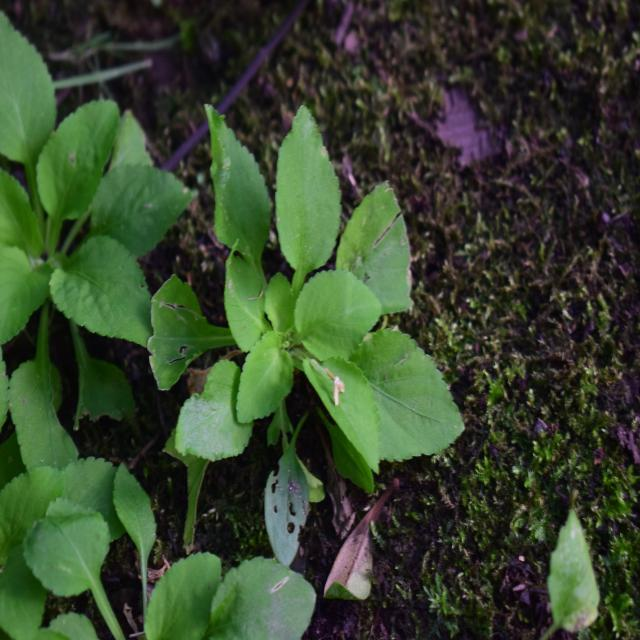Viola: (185, 130, 453, 520), (0, 27, 181, 425)
